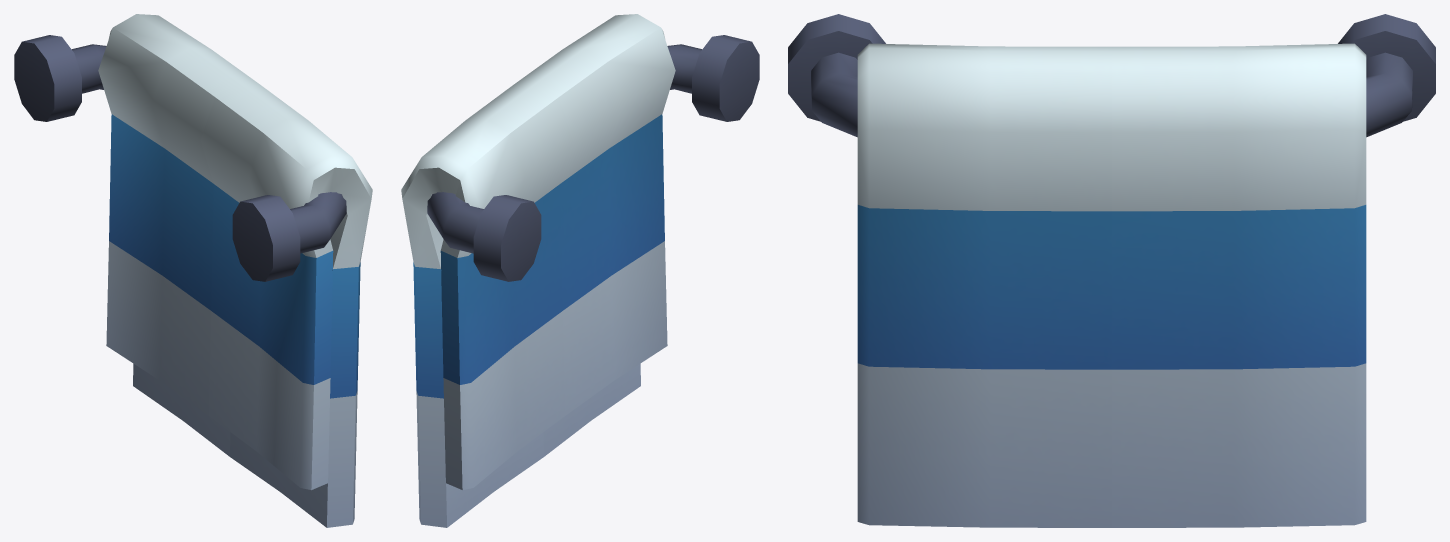
The model's file is TowelRack.fbx.
3 views of the same model, side by side, from view 1: azimuth 30°, elevation 25°; view 2: azimuth 150°, elevation 25°; view 3: azimuth 270°, elevation 25° (orthographic). The views are drawn at different scales.
Parts seen in each view (by area): view 1: TowelRack; view 2: TowelRack; view 3: TowelRack.
Boxes of the visible parts, box(x1,y1,x2,y2) form: TowelRack: box(14, 14, 372, 527); TowelRack: box(401, 14, 759, 527); TowelRack: box(788, 14, 1435, 527).
Bounding box in the file's own units: 28.79 × 74.2 × 93.72.
